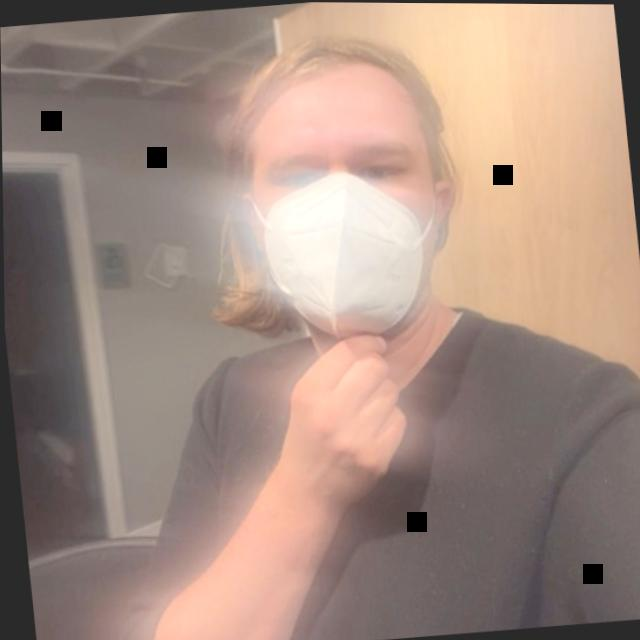Mask: (194, 23, 475, 370)
